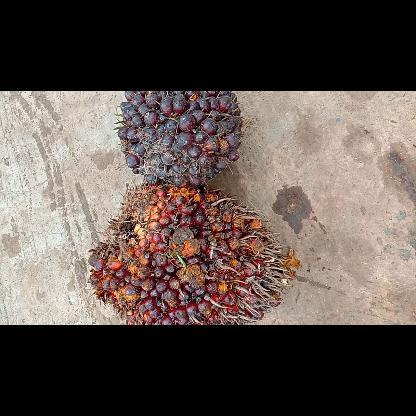TBS masak: (88, 184, 294, 324)
TBS mentah: (113, 90, 242, 184)
